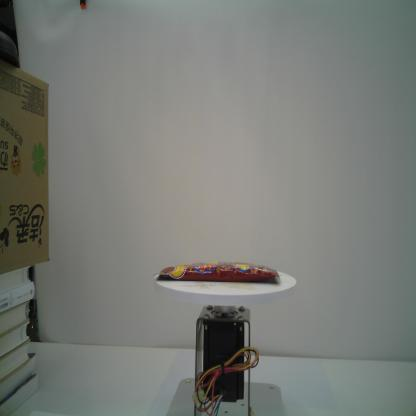Candy: (153, 260, 281, 282)
